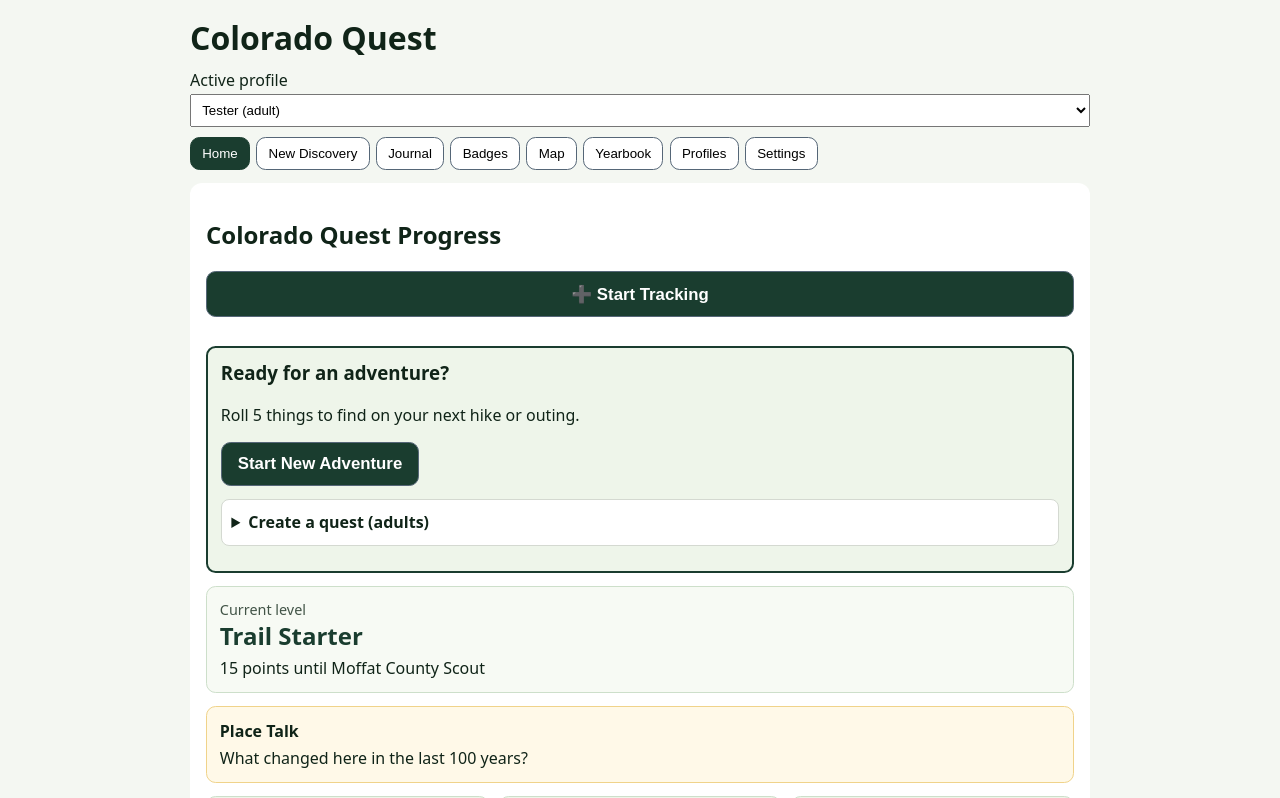
Test case: load() validation › renders Entry Detail for an entry missing photos/profileIds arrays
This screenshot has width=1280, height=798.
Click the button "Journal" at (410, 153), box [376,137,444,170]
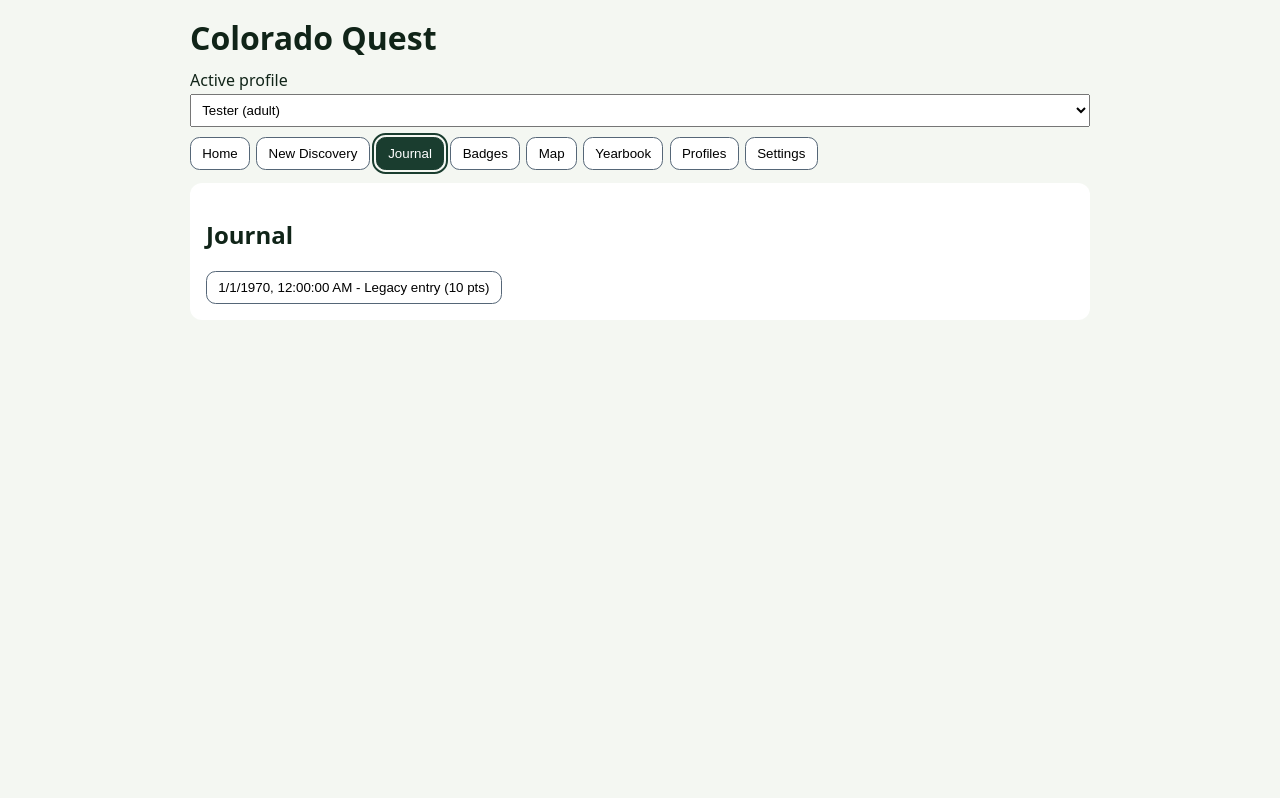
Click the button "1/1/1970, 12:00:00 AM - Legacy entry (10 pts)" at (354, 288), box [206,271,502,304]
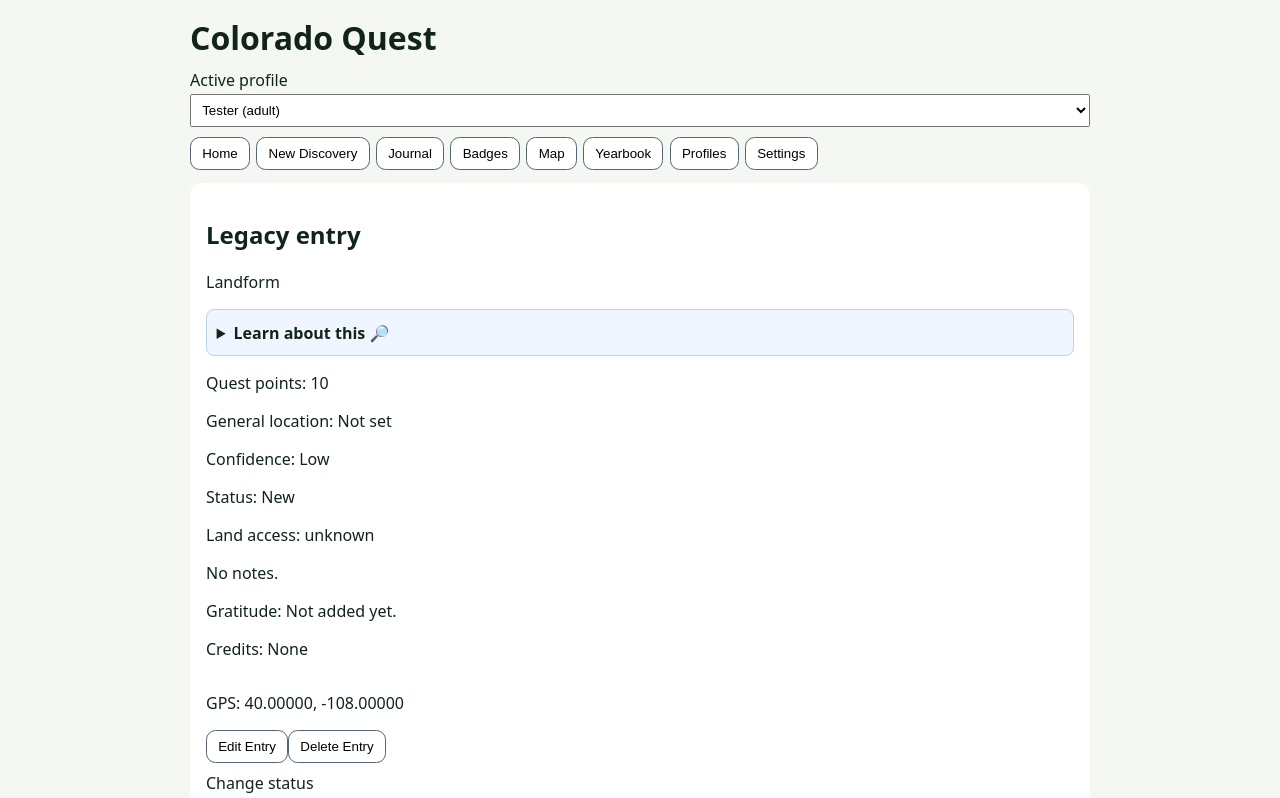
Expected: the heading "Legacy entry" is shown, [206,218,361,252]
